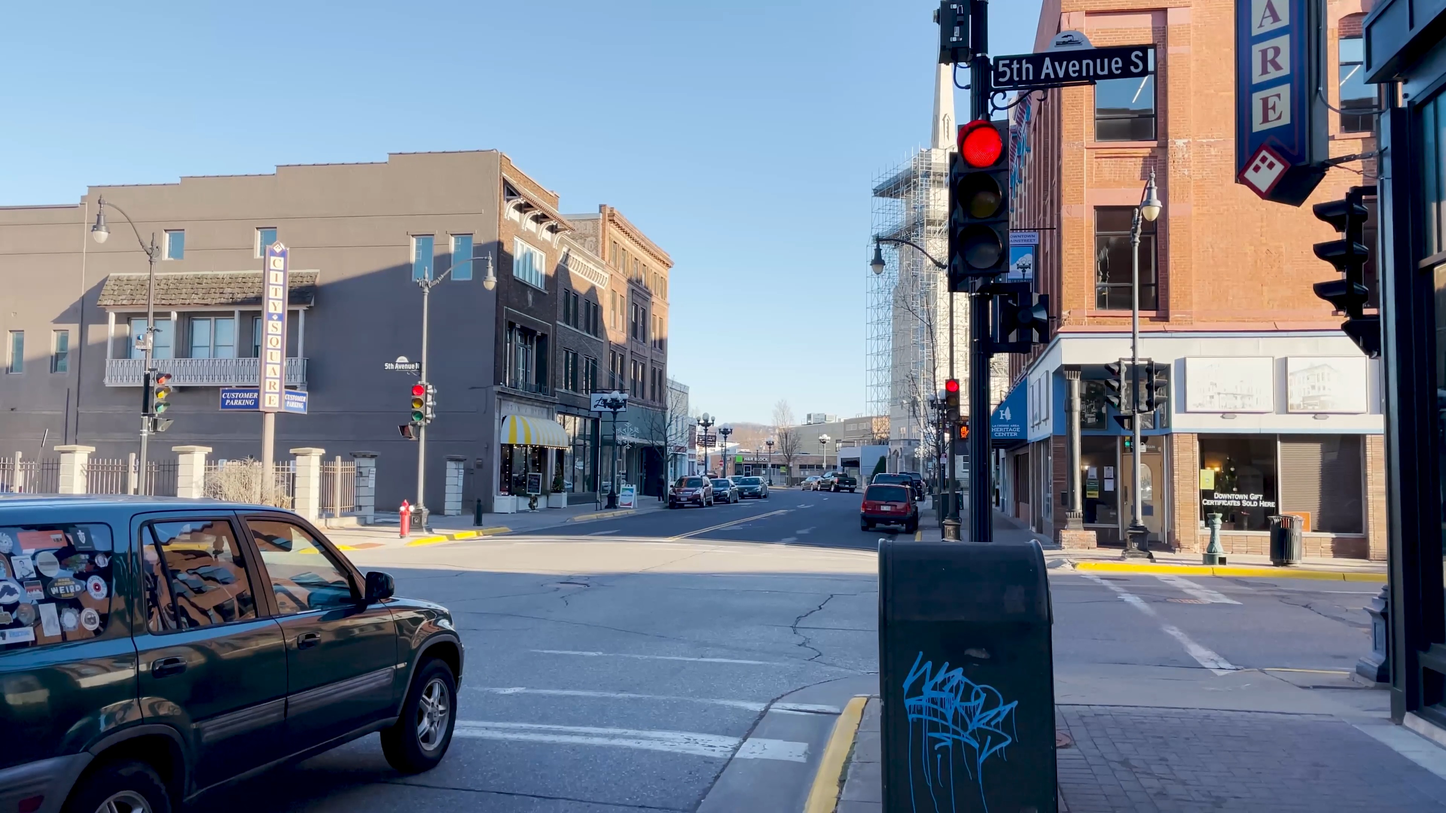red traffic light: (949, 119, 1020, 300)
